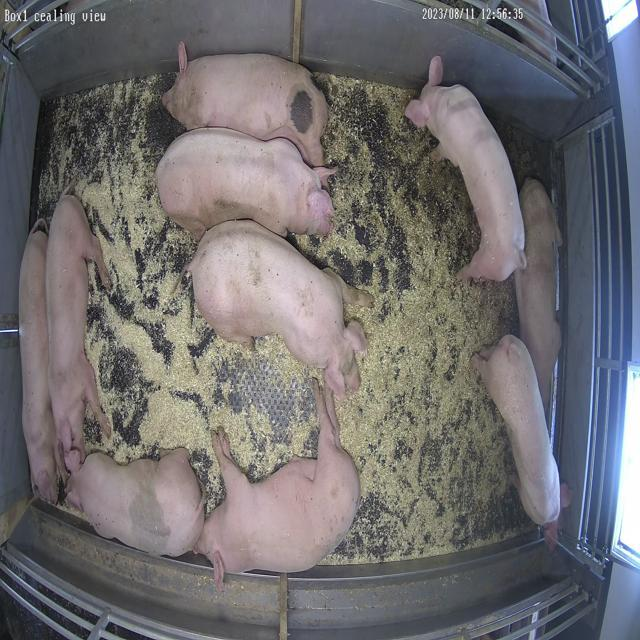Dirt: (324, 78, 478, 270), (162, 42, 328, 166), (492, 115, 554, 194)
